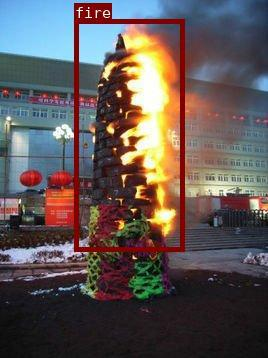fire: (73, 18, 183, 250)
